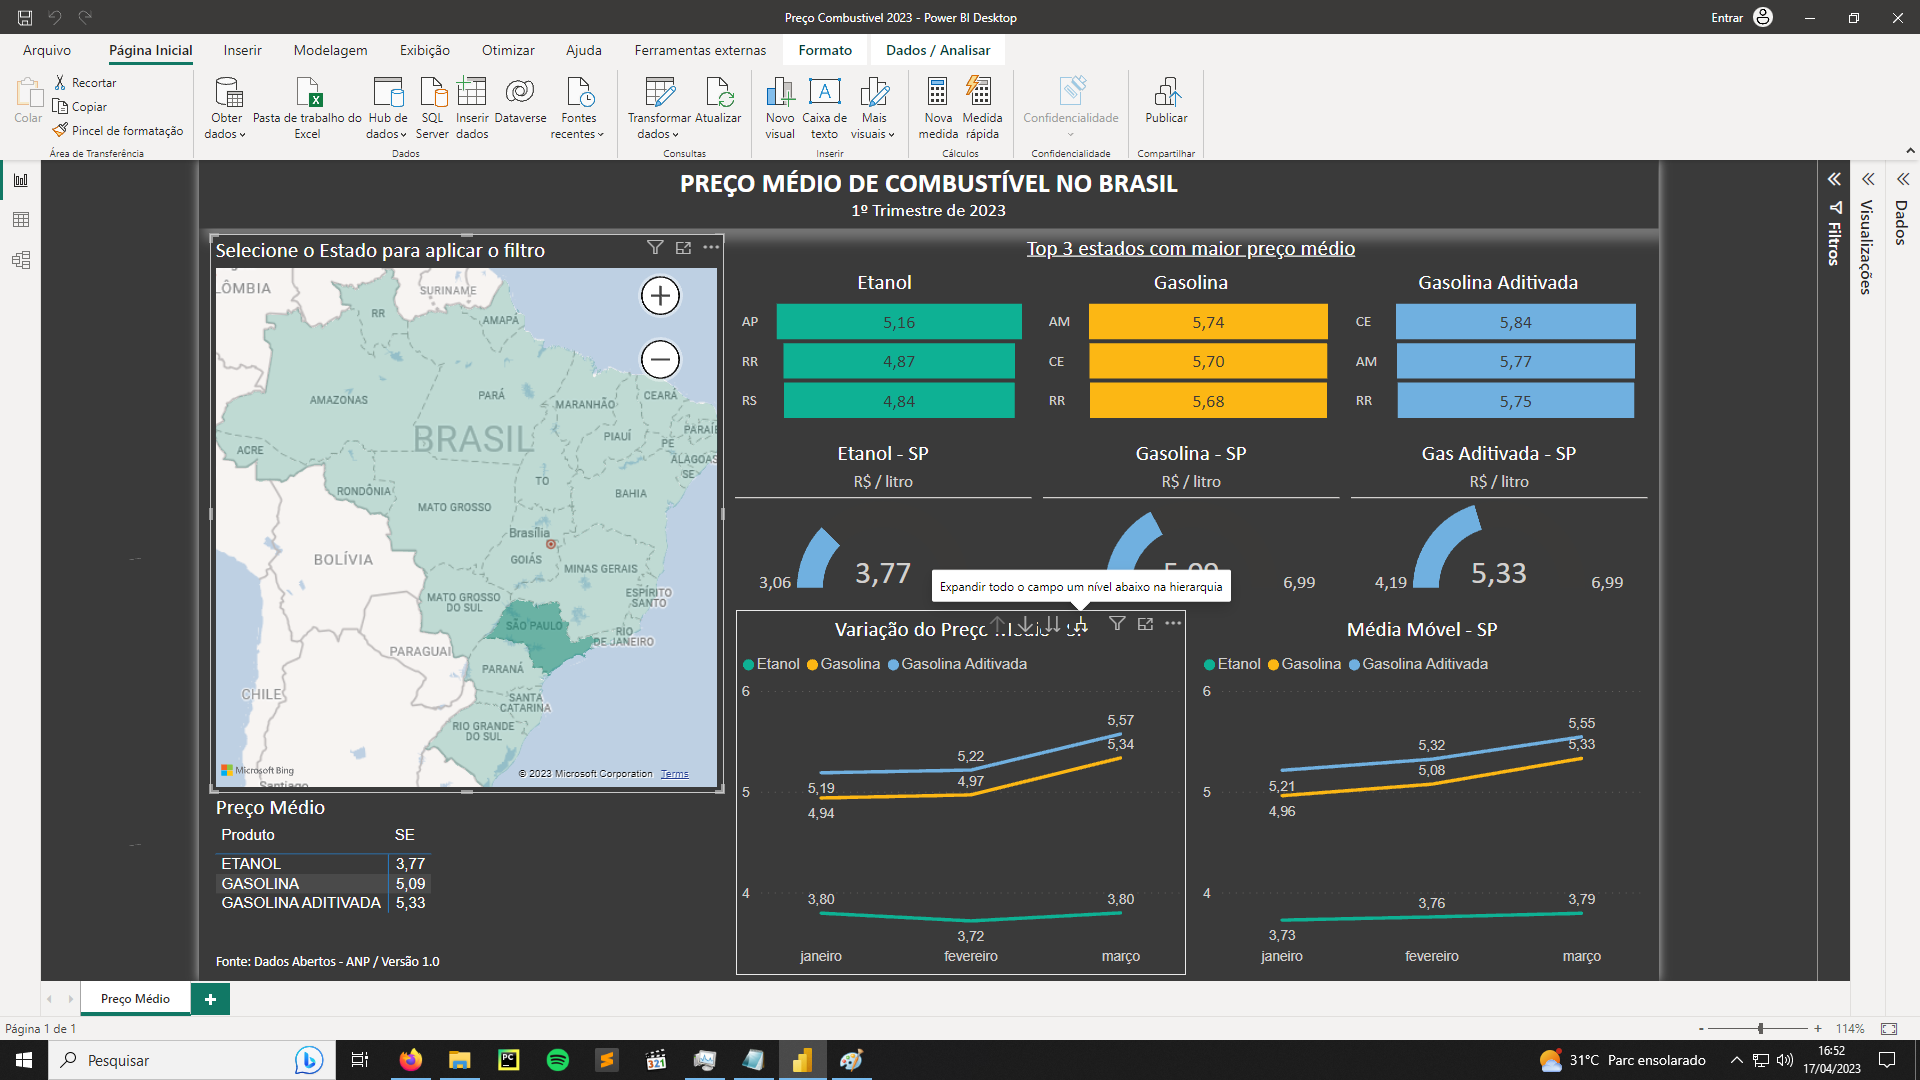

The page's visual inventory and layout, read from the dashboard file:
{"tool":"powerbi","page":{"name":"Preço Médio","canvas":[1280,720],"ordinal":0},"visuals":[{"type":"lineChart","fields":{"Category":["preco_tratado.Data_Coleta.Variation.Hierarquia de datas.Mês","preco_tratado.Data_Coleta.Variation.Hierarquia de datas.Dia"],"Y":["Medidas.MediaNacEtanol","Medidas.MediaNacGasComum","Medidas.MediaNacGasAdit"]},"box":[470.9,395,395,320],"z":0},{"type":"lineChart","fields":{"Y":["Medidas.Média móvel de MediaNacEtanol","Medidas.Média móvel de MediaNacGasComum","Medidas.Média móvel de MediaNacGasAdit"],"Category":["preco_tratado.Data_Coleta.Variation.Hierarquia de datas.Mês","preco_tratado.Data_Coleta.Variation.Hierarquia de datas.Dia"]},"box":[874.9,395,395.1,320],"z":1000},{"type":"filledMap","title":"Selecione o Estado para aplicar o filtro","fields":{"Category":["preco_tratado.Estado"]},"box":[10,65,450,490],"z":2000},{"type":"pivotTable","fields":{"Rows":["preco_tratado.Produto"],"Columns":["preco_tratado.Regiao"],"Values":["Medidas.MediaValorVenda"]},"box":[10,554.7,450,123.7],"z":3000},{"type":"funnel","title":"Gasolina ","fields":{"Category":["TOPMediaGas.Estado"],"Y":["Avg(TOPMediaGas.GAS)"]},"box":[740.2,95,260,140.1],"z":4000},{"type":"textbox","box":[0,0,1280,60],"z":5000},{"type":"funnel","title":"Gasolina Aditivada","fields":{"Category":["TOPMediaGasAdit.Estado"],"Y":["Avg(TOPMediaGasAdit.GAS_ADIT)"]},"box":[1009.6,95,260.7,140.1],"z":6000},{"type":"funnel","title":"Etanol","fields":{"Category":["TOPMediaEtanol.Estado"],"Y":["Avg(TOPMediaEtanol.ETANOL)"]},"box":[470.8,95,260.7,140.1],"z":7000},{"type":"textbox","title":"Top 3 estados com maior preço médio","box":[470.2,65,800.1,30],"z":8000},{"type":"textbox","box":[10,690,225.5,25.9],"z":9000},{"type":"textbox","box":[470,245.1,260,52],"z":10000},{"type":"gauge","fields":{"Y":["Medidas.MediaNacEtanol"],"MinValue":["Medidas.MinMediaNacEtanol"],"MaxValue":["Medidas.MaxMediaNacEtanol"]},"box":[470,297.6,259.7,87.5],"z":11000},{"type":"textbox","box":[740,245,260,52],"z":12000},{"type":"gauge","fields":{"Y":["Medidas.MediaNacGasComum"],"MinValue":["Medidas.MinMediaNacGas"],"MaxValue":["Medidas.MaxMediaNacGas"]},"box":[740,297,259.7,87.5],"z":13000},{"type":"textbox","box":[1010.7,245,260,52],"z":14000},{"type":"gauge","fields":{"Y":["Medidas.MediaNacGasAdit"],"MinValue":["Medidas.MinMediaNacGasAdt"],"MaxValue":["Medidas.MaxMediaNacGasAdt"]},"box":[1010.7,297,259.7,87.5],"z":15000}]}

Visuals, with their boxes on the page's 1280x720 design canvas (x1, y1, x2, y2). These are canvas units, not pixel positions in the 1920x1080 screenshot, which may show the page scaled, cropped or inside an application window:
lineChart - preco_tratado.Data_Coleta.Variation.Hierarquia de datas.Mês x preco_tratado.Data_Coleta.Variation.Hierarquia de datas.Dia: crop(471, 395, 866, 715)
lineChart - Medidas.Média móvel de MediaNacEtanol x Medidas.Média móvel de MediaNacGasComum: crop(875, 395, 1270, 715)
"Selecione o Estado para aplicar o filtro" filledMap: crop(10, 65, 460, 555)
pivotTable - preco_tratado.Produto x preco_tratado.Regiao: crop(10, 555, 460, 678)
"Gasolina " funnel: crop(740, 95, 1000, 235)
textbox: crop(0, 0, 1280, 60)
"Gasolina Aditivada" funnel: crop(1010, 95, 1270, 235)
"Etanol" funnel: crop(471, 95, 732, 235)
"Top 3 estados com maior preço médio" textbox: crop(470, 65, 1270, 95)
textbox: crop(10, 690, 236, 716)
textbox: crop(470, 245, 730, 297)
gauge - Medidas.MediaNacEtanol x Medidas.MinMediaNacEtanol: crop(470, 298, 730, 385)
textbox: crop(740, 245, 1000, 297)
gauge - Medidas.MediaNacGasComum x Medidas.MinMediaNacGas: crop(740, 297, 1000, 384)
textbox: crop(1011, 245, 1271, 297)
gauge - Medidas.MediaNacGasAdit x Medidas.MinMediaNacGasAdt: crop(1011, 297, 1270, 384)
